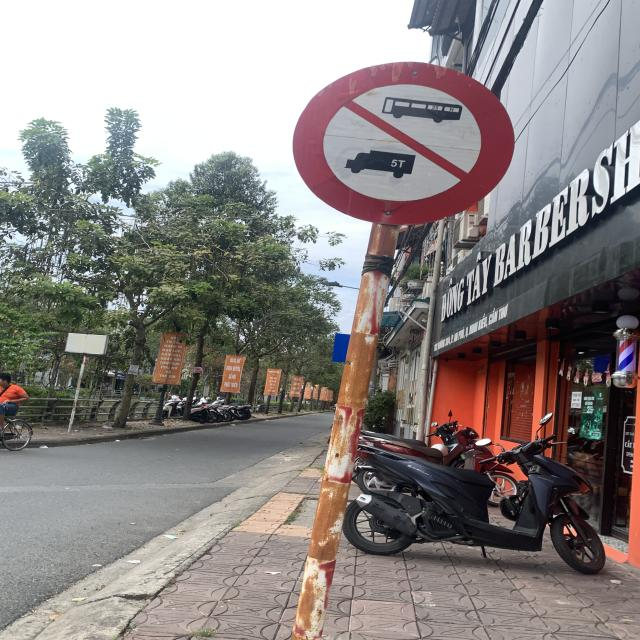Cam_XeTai_XeKhach: (290, 61, 517, 226)
